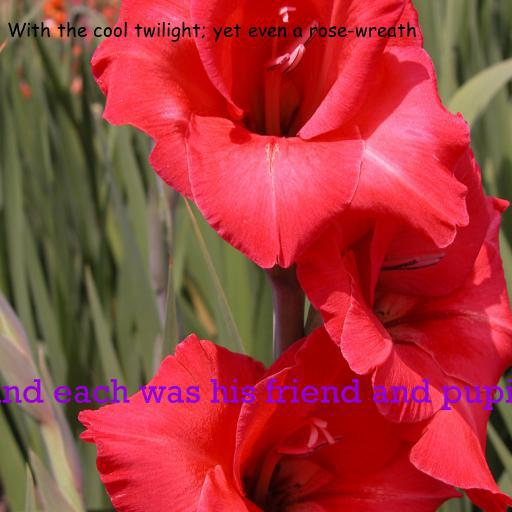Comic Sans MS: (7, 21, 417, 42)
Rockwell: (0, 378, 512, 411)
